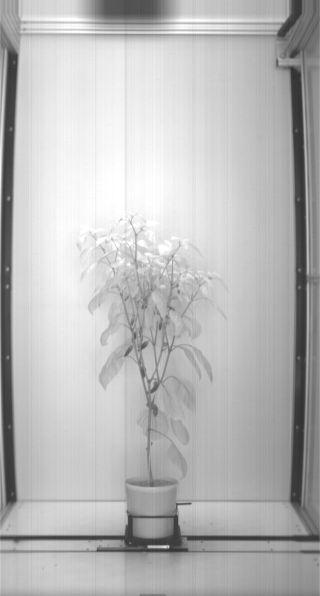bell-pepper fooled_you: (148, 378, 159, 393), (123, 344, 134, 356), (139, 364, 147, 377), (157, 317, 163, 331), (152, 403, 158, 417), (142, 297, 148, 311), (139, 341, 147, 350), (130, 311, 134, 326), (132, 329, 136, 340)
